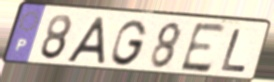8: (148, 20, 184, 71), (38, 13, 74, 62)
A: (63, 16, 107, 67)
E: (178, 21, 229, 75)
G: (109, 18, 150, 67)
L: (219, 27, 250, 74)
